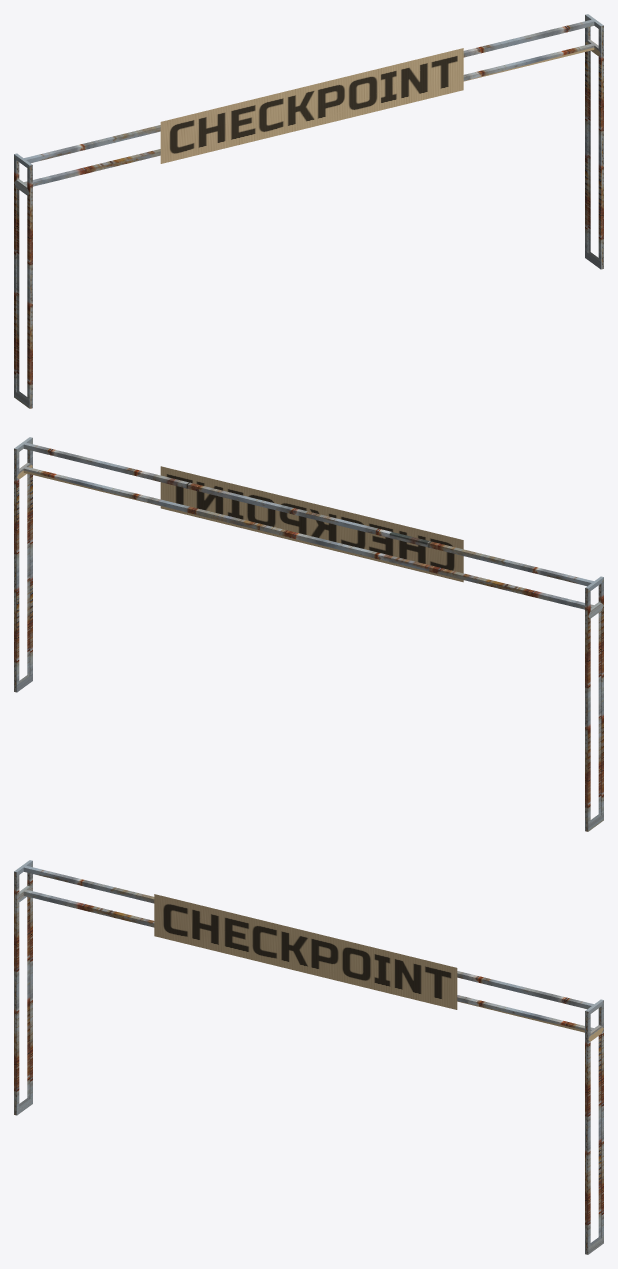
Rendered from checkpoint.glb.
The picture shows the model from 3 angles, top to bottom: view 1: azimuth 30°, elevation 25°; view 2: azimuth 150°, elevation 25°; view 3: azimuth 330°, elevation 25°; orthographic projection.
Parts seen in each view (by area): view 1: Cube.004; view 2: Cube.004; view 3: Cube.004.
Boxes of the visible parts, x1,y1,x2,y2 form: Cube.004: [14, 14, 603, 408]; Cube.004: [14, 437, 603, 831]; Cube.004: [14, 860, 603, 1254].
Size of the model in its own units: 42 by 17.51 by 2.
Materials: 1 (1 with a texture image).
